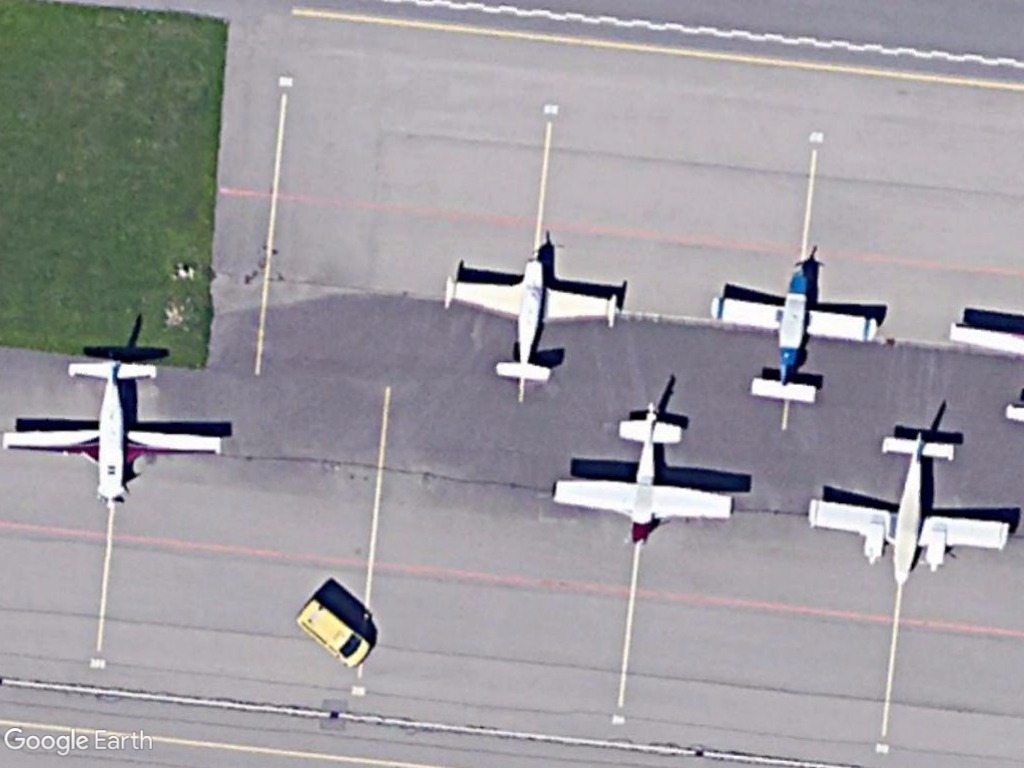propeller: (801, 423, 1011, 582)
trainer: (1, 350, 229, 508), (543, 405, 739, 550), (440, 242, 628, 392), (707, 262, 882, 411)
van: (289, 597, 372, 673)
